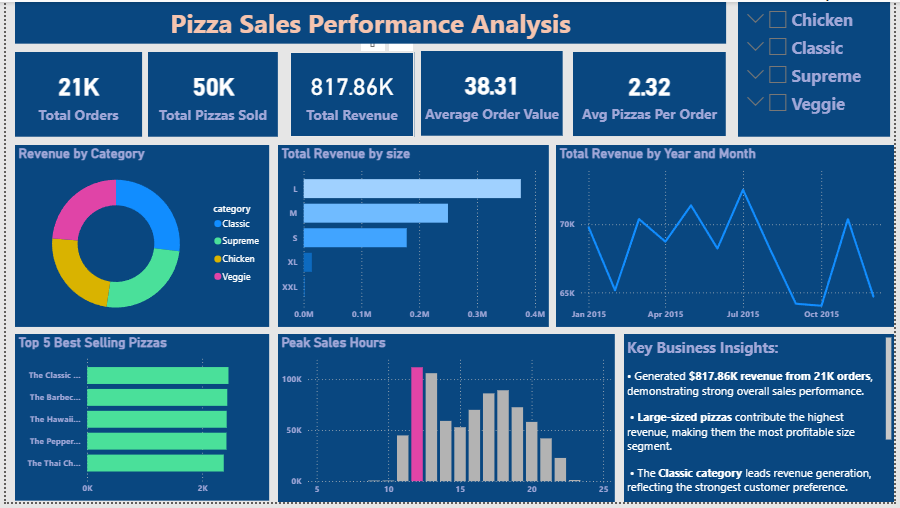

This screenshot's page, from the dashboard's own definition file:
{"tool":"powerbi","page":{"name":"Page 1","canvas":[1280,720],"ordinal":0},"visuals":[{"type":"card","fields":{"Values":["order_details.Total Pizzas Sold"]},"box":[204.5,72,187.2,122.4],"z":0},{"type":"card","fields":{"Values":["order_details.Avg Pizzas Per Order"]},"box":[816.5,72,220.3,121],"z":1000},{"type":"card","fields":{"Values":["order_details.Total Orders"]},"box":[13,72,182.9,122.4],"z":2000},{"type":"card","fields":{"Values":["order_details.Average Order Value"]},"box":[597.6,70.6,204.5,122.4],"z":3000},{"type":"card","fields":{"Values":["order_details.Total Revenue"]},"box":[409,72,178.6,122.4],"z":4000},{"type":"donutChart","title":"Revenue by Category","fields":{"Category":["pizza_types.category"],"Y":["order_details.Total Revenue"]},"box":[13,205.9,365.8,262.1],"z":5000},{"type":"clusteredBarChart","fields":{"Category":["pizzas.size"],"Y":["order_details.Total Revenue"]},"box":[391.7,205.9,390.2,262.1],"z":6000},{"type":"lineChart","fields":{"Category":["orders.date.Variation.Date Hierarchy.Year","orders.date.Variation.Date Hierarchy.Month"],"Y":["order_details.Total Revenue"]},"box":[792,205.9,488.2,262.1],"z":7000},{"type":"clusteredBarChart","title":"Top 5 Best Selling Pizzas","fields":{"Category":["pizza_types.name"],"Y":["order_details.Total Pizzas Sold"]},"box":[13,478.1,365.8,240.5],"z":8000},{"type":"clusteredColumnChart","title":"Peak Sales Hours","fields":{"Y":["order_details.Total Revenue"],"Category":["orders.Hour"]},"box":[391.7,478.1,485.3,241.9],"z":9000},{"type":"slicer","fields":{"Values":["pizza_types.category","pizzas.size","pizza_types.name"]},"box":[1054.1,0,218.9,194.4],"z":10000},{"type":"textbox","box":[13,0,1023.8,60.5],"z":11000},{"type":"textbox","box":[889.9,478.1,390.2,241.9],"z":11001}]}

Visuals, with their boxes in screenshot pixels (x1, y1, x2, y2), scaled from the page's 1280x720 canvas onto the 900x508 screenshot:
card - order_details.Total Pizzas Sold: (144, 51, 275, 137)
card - order_details.Avg Pizzas Per Order: (574, 51, 729, 136)
card - order_details.Total Orders: (9, 51, 138, 137)
card - order_details.Average Order Value: (420, 50, 564, 136)
card - order_details.Total Revenue: (288, 51, 413, 137)
"Revenue by Category" donutChart: (9, 145, 266, 330)
clusteredBarChart - pizzas.size x order_details.Total Revenue: (275, 145, 550, 330)
lineChart - orders.date.Variation.Date Hierarchy.Year x orders.date.Variation.Date Hierarchy.Month: (557, 145, 899, 330)
"Top 5 Best Selling Pizzas" clusteredBarChart: (9, 337, 266, 507)
"Peak Sales Hours" clusteredColumnChart: (275, 337, 617, 507)
slicer - pizza_types.category x pizzas.size: (741, 0, 895, 137)
textbox: (9, 0, 729, 43)
textbox: (626, 337, 899, 507)
